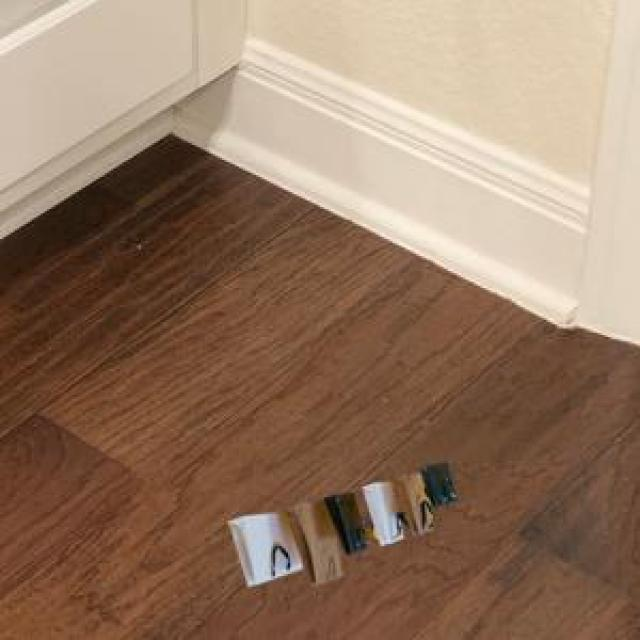paper: (224, 459, 452, 580)
